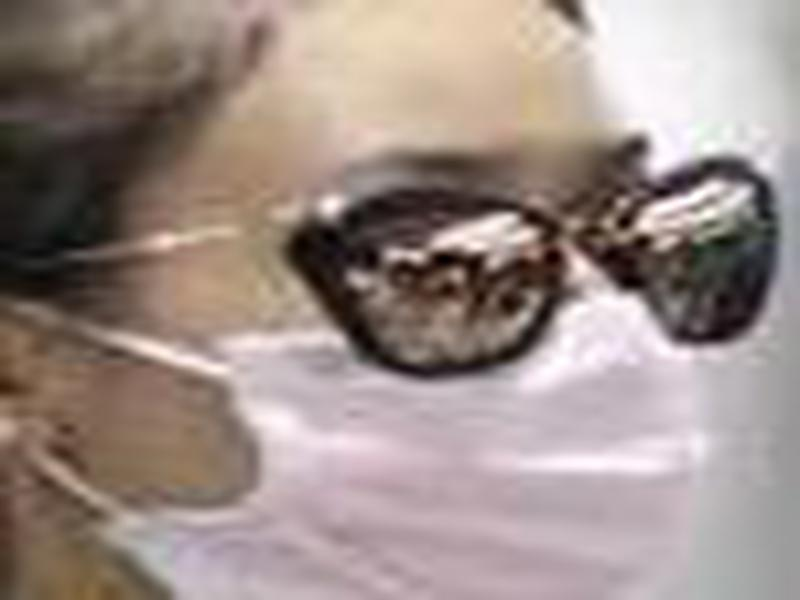with_mask: (1, 3, 768, 600)
